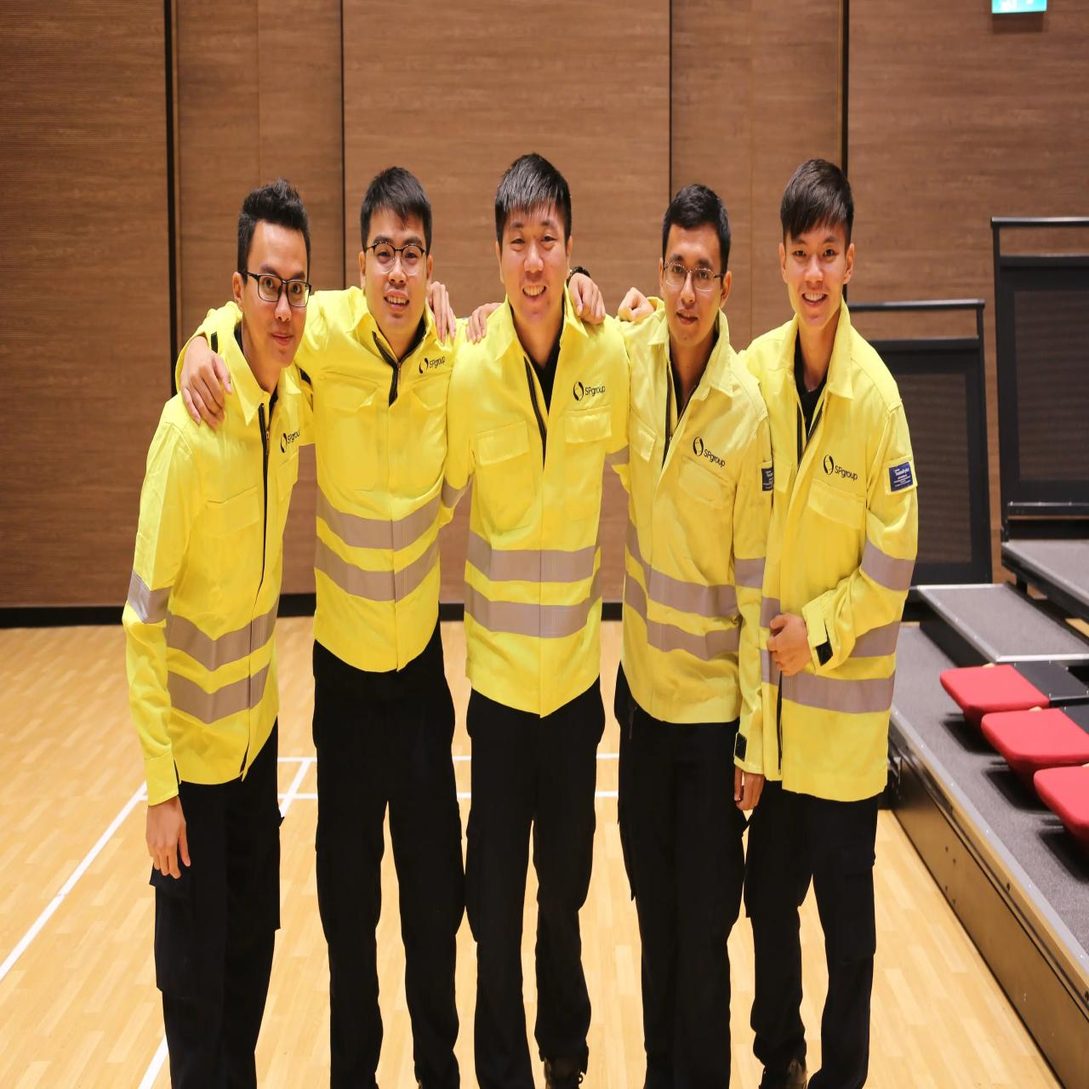NO_Safety_Vest: (749, 321, 912, 807), (119, 352, 282, 792), (458, 319, 626, 724), (306, 302, 470, 669), (627, 317, 761, 728)
Person: (109, 158, 318, 1089), (448, 135, 637, 1089), (292, 131, 476, 1089), (744, 167, 927, 1081), (607, 166, 777, 1089)
